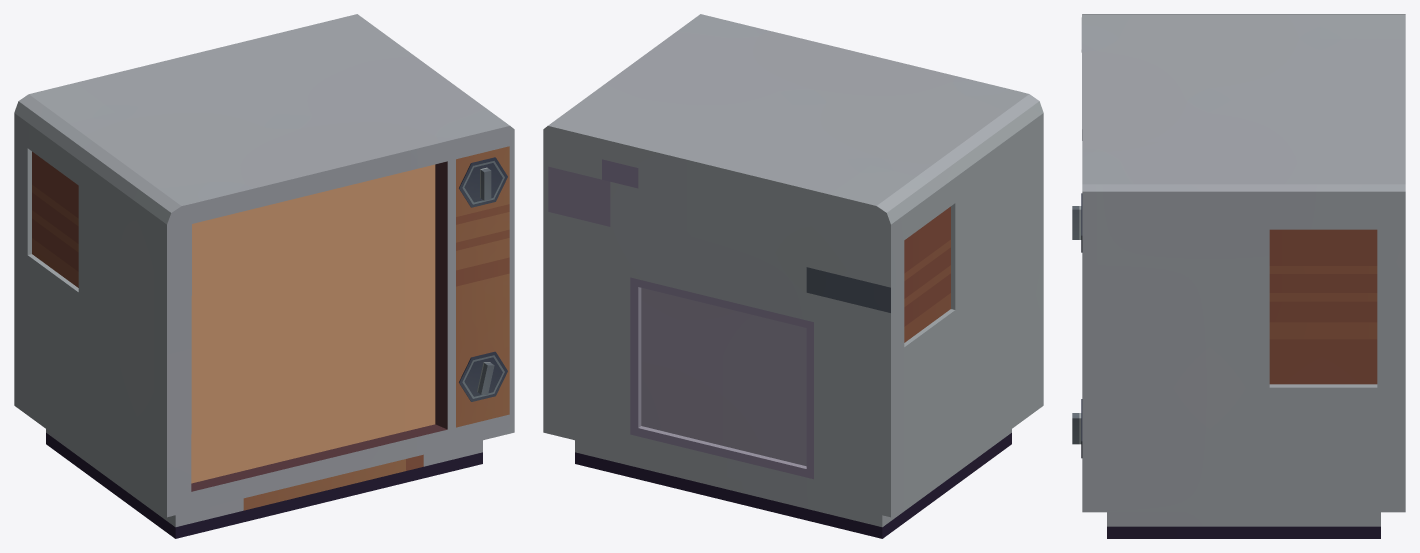
Rendered from Prop_TV04.fbx.
3 renders of one model, left to right at view 1: azimuth 30°, elevation 25°; view 2: azimuth 150°, elevation 25°; view 3: azimuth 270°, elevation 25°, orthographic. The views are drawn at different scales.
Parts seen in each view (by area): view 1: Cube.429; view 2: Cube.429; view 3: Cube.429.
Part boxes in pixels (x1,y1,x2,y2): Cube.429: (14,14,514,538); Cube.429: (543,14,1043,538); Cube.429: (1072,14,1405,538).
Bounding box in the file's own units: 55.14 × 51.95 × 43.26.
